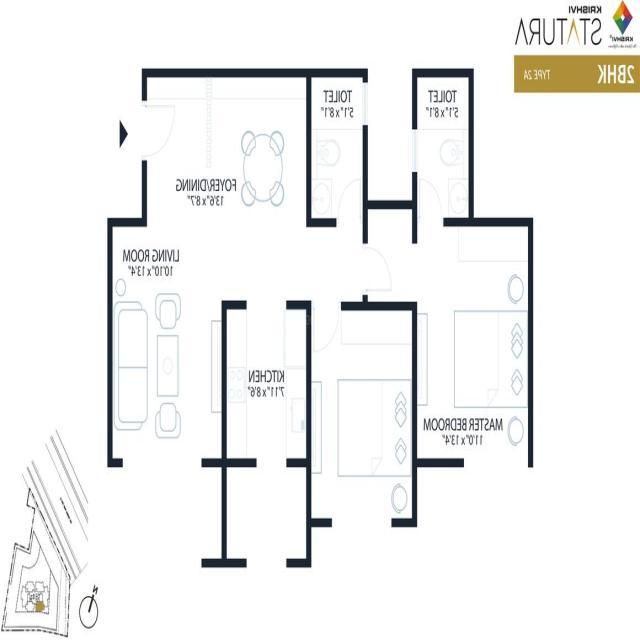Bedroom: (312, 310, 413, 519)
Bedroom with Toilet: (365, 70, 529, 459)
Dining: (237, 121, 293, 216)
Enterance-Foyer: (118, 97, 177, 164)
Kitchen: (226, 310, 306, 458)
Living: (113, 78, 222, 459)
Toilet: (311, 78, 362, 219), (417, 78, 468, 218)
